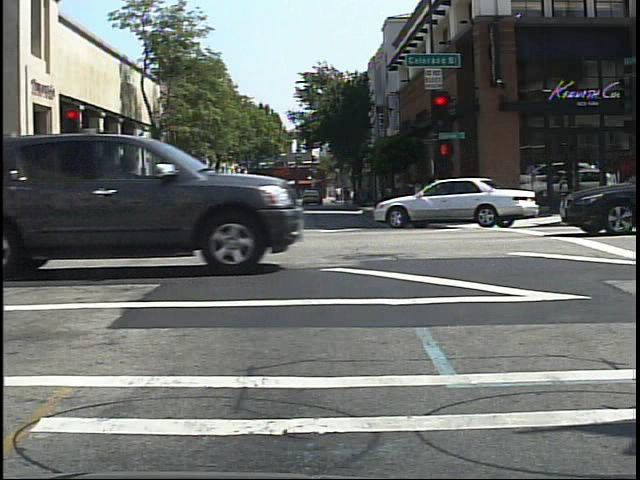person: (106, 180, 125, 223)
